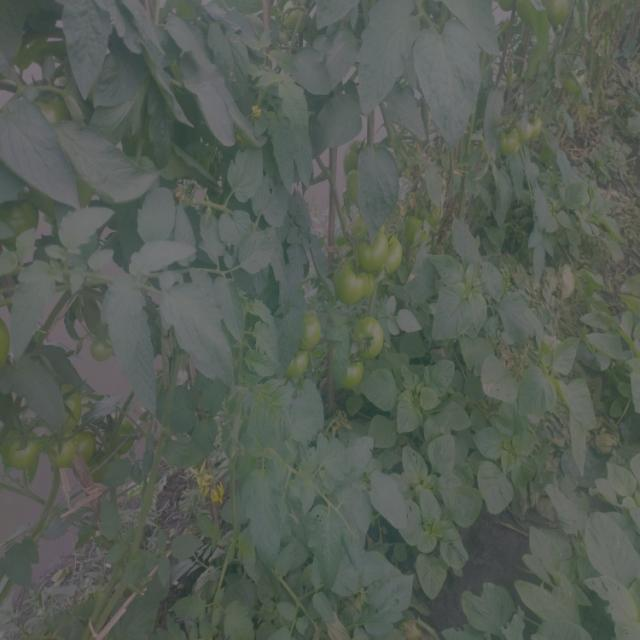tomato: (3, 430, 40, 479), (334, 264, 372, 307), (351, 314, 387, 359), (355, 229, 384, 274), (47, 430, 76, 475), (57, 386, 88, 428), (34, 94, 65, 132), (518, 108, 547, 148), (547, 1, 579, 31), (341, 360, 369, 394), (1, 317, 17, 375), (302, 315, 324, 354), (401, 212, 424, 248), (87, 337, 116, 363), (80, 435, 102, 469), (288, 353, 313, 380), (500, 124, 520, 157), (387, 236, 403, 275)
